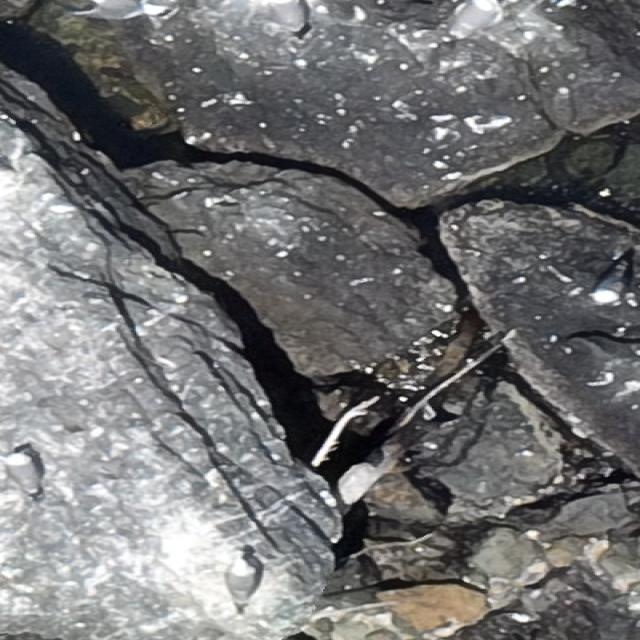umineko: (437, 2, 495, 42), (223, 552, 258, 606), (5, 452, 45, 498), (591, 259, 631, 304), (272, 2, 313, 36)
